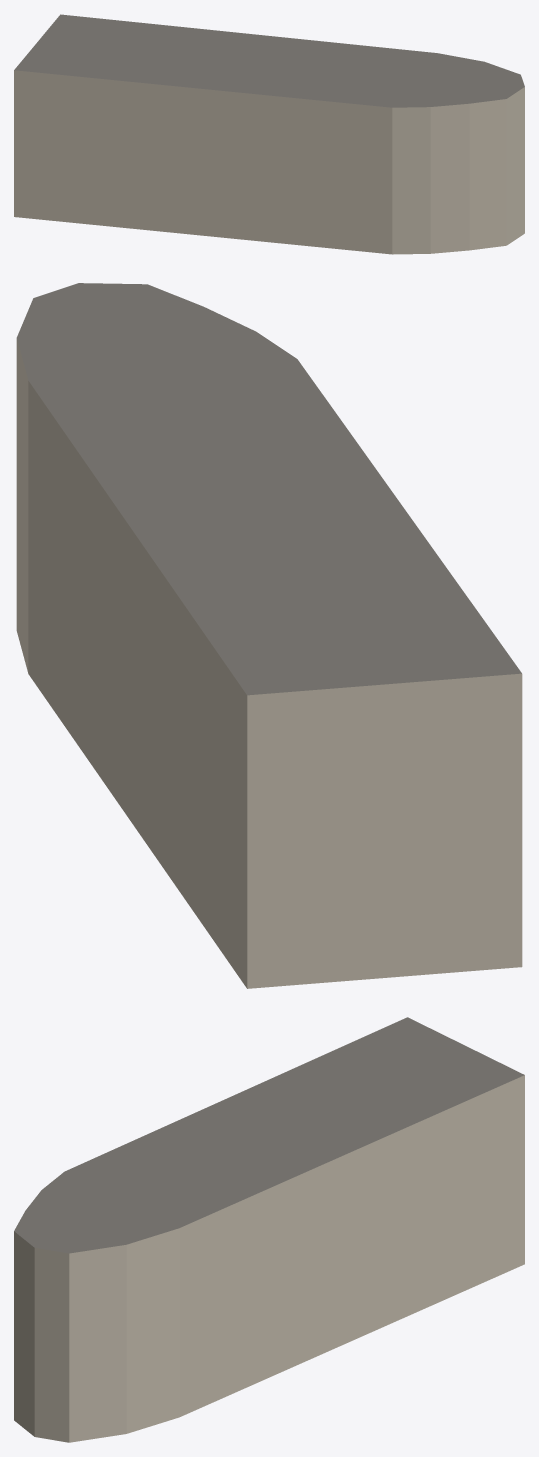
3 renders of one model, top to bottom at view 1: azimuth 30°, elevation 25°; view 2: azimuth 150°, elevation 25°; view 3: azimuth 270°, elevation 25°, orthographic. The views are drawn at different scales.
Visible parts, largest first — view 1: HP-w1287060495; view 2: HP-w1287060495; view 3: HP-w1287060495.
Boxes of the visible parts, <box> form: HP-w1287060495: <box>14,14,524,254</box>; HP-w1287060495: <box>16,283,522,988</box>; HP-w1287060495: <box>14,1017,524,1442</box>.
Size of the model in its own units: 48.21 by 18 by 44.05.
